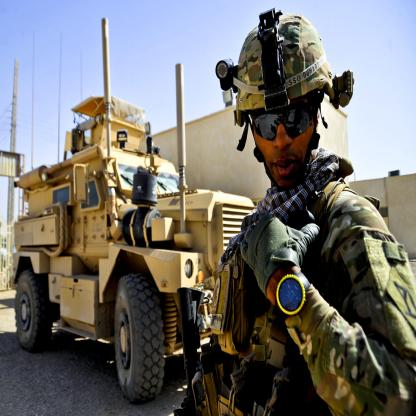Helmet: (214, 4, 360, 193)
